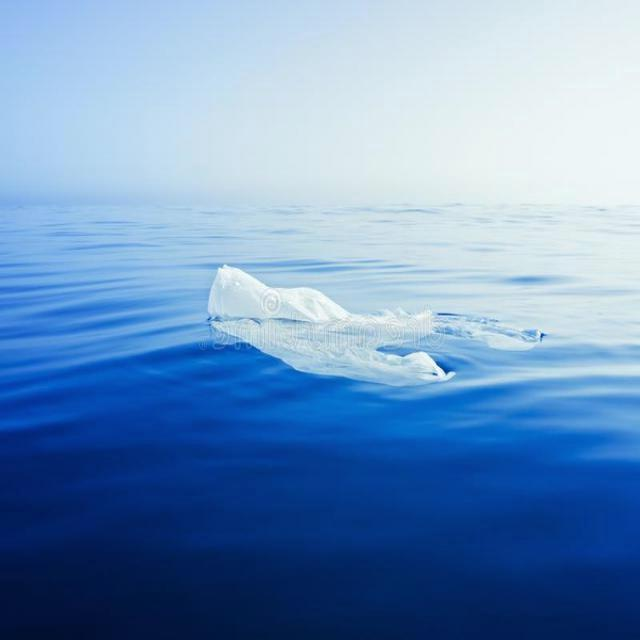Trash: (207, 260, 548, 388)
